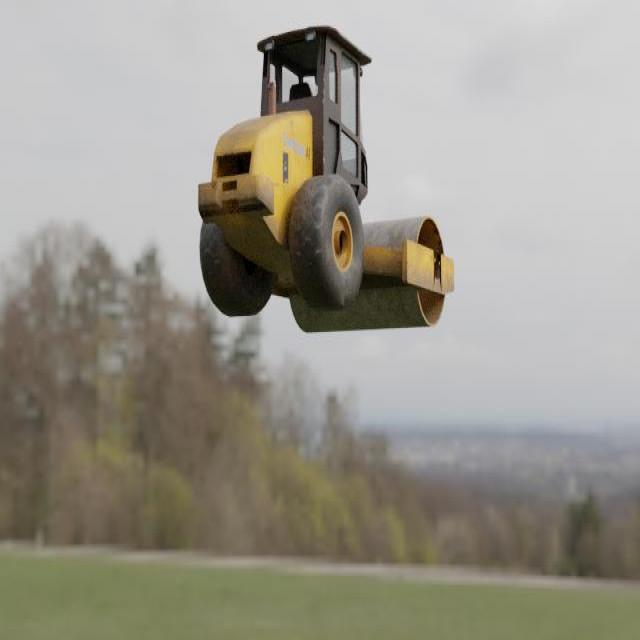Roller: (197, 24, 454, 333)
